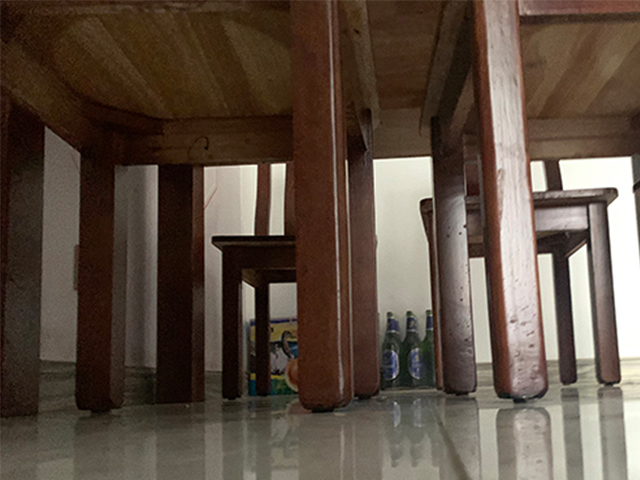stool: (1, 1, 385, 417), (419, 1, 640, 404), (419, 160, 621, 394), (212, 162, 298, 400)
